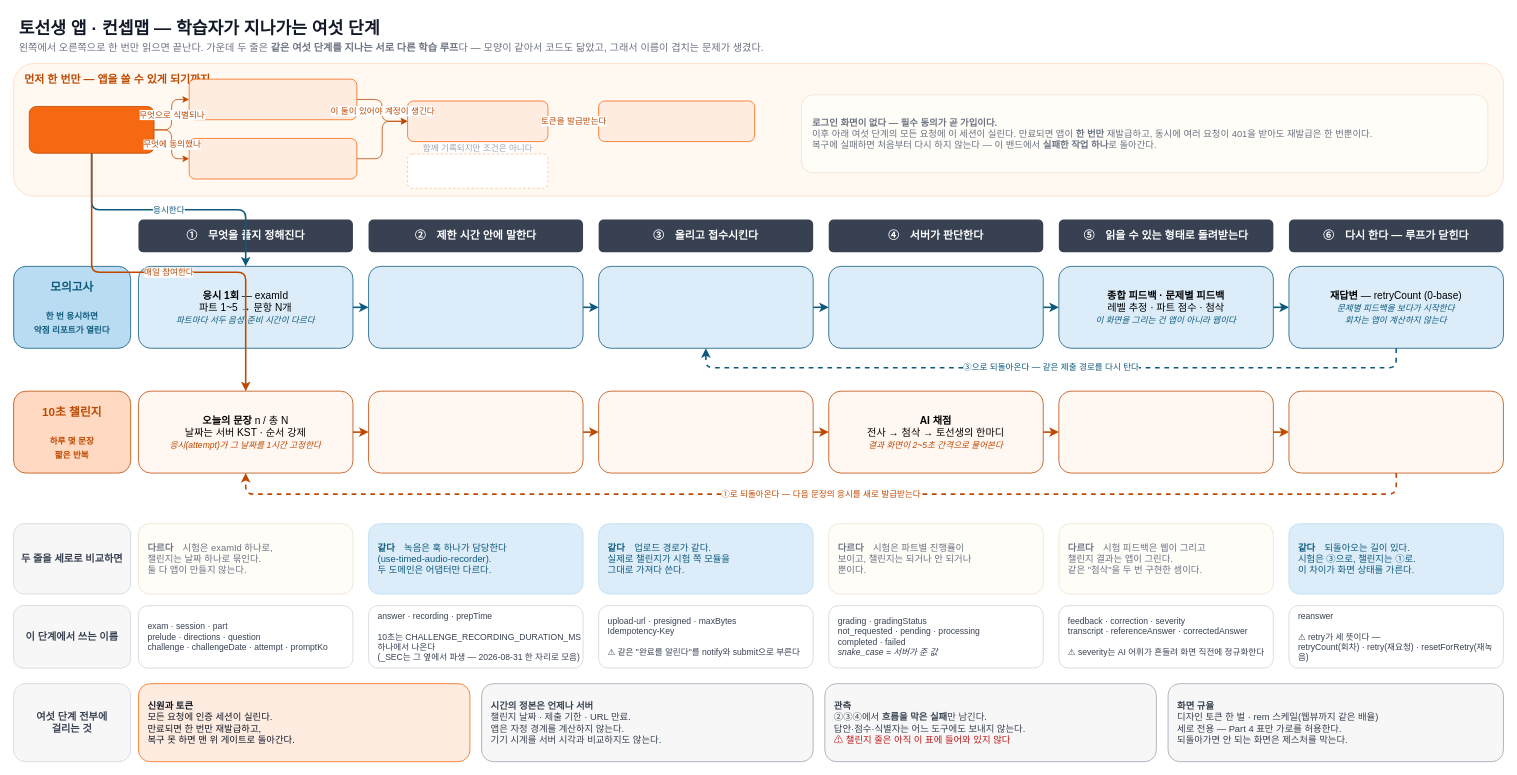
This 1517x775 diagram has some shape labels left out. Here are the shapes that lost their labels. From the top down, the centre of each, then its label:
At (272,99): "설치 ID UUID · 기기마다 하나".
At (91,129): "학습자".
At (477,121): "게스트 계정".
At (676,121): "인증 세션 access · refresh 토큰".
At (272,158): "필수 동의 개인정보 · 이용약관 (버전 있음)".
At (477,170): "선택 동의 채점 품질 검토 · 철회 가능".
At (475,307): "답변 녹음 문항마다 정해진 답변 시간 시간이 끝나면 자동으로 확정된다".
At (705,307): "답변 제출 presigned PUT → 완료 통지 문항 수만큼 반복된다".
At (935,307): "채점 파트 단위로 순차 진행 대기 화면이 진행률을 물어본다".
At (475,431): "10초 녹음 이름 그대로의 제한 시간 들어보고 다시 녹음할 수 있다".
At (705,431): "제출 presigned PUT → 접수 통지 녹음 1건 = 멱등 키 1개".
At (1165,431): "결과 참고 답안은 접수 즉시 보인다 AI 첨삭은 준비되는 대로 그 위를 덮는다".
At (1395,431): "한 문장 더 다음 문장으로 넘어간다 마지막 문장이면 나오지 않는다".
